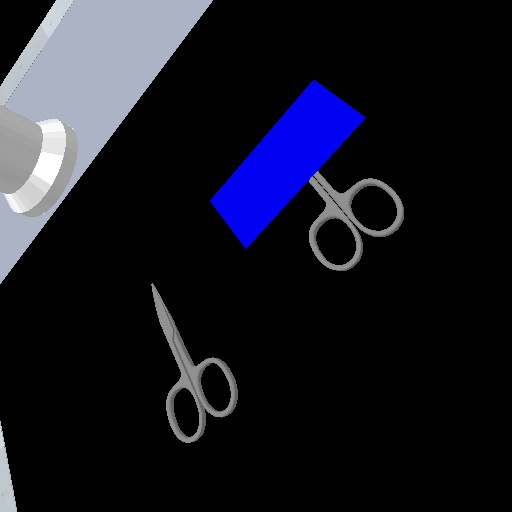tijera: (136, 279, 240, 445), (304, 166, 408, 275)
